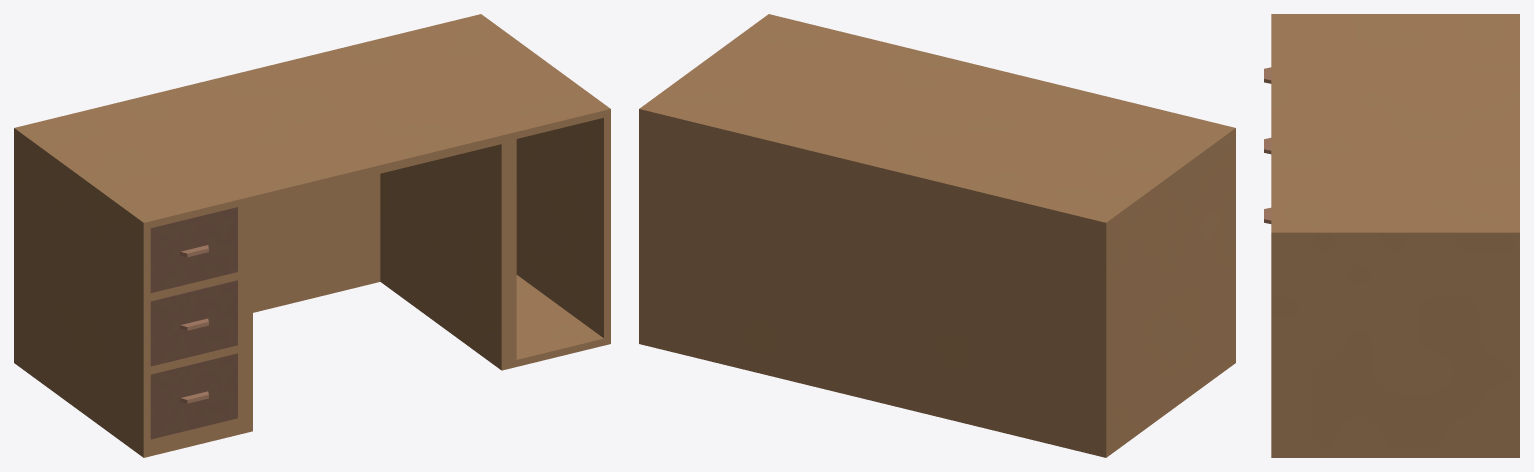
The model's file is Desk_02_01.fbx.
3 renders of one model, left to right at view 1: azimuth 30°, elevation 25°; view 2: azimuth 150°, elevation 25°; view 3: azimuth 270°, elevation 25°, orthographic. The views are drawn at different scales.
Visible parts, largest first — view 1: Desk_02_01, Desk_02_01_Drawer.001, Desk_02_01_Drawer.002, Desk_02_01_Drawer; view 2: Desk_02_01; view 3: Desk_02_01.
Boxes of the visible parts, left/top/right/bottom form: Desk_02_01: left=14, top=14, right=610, bottom=457; Desk_02_01_Drawer.001: left=150, top=280, right=237, bottom=366; Desk_02_01_Drawer.002: left=150, top=353, right=237, bottom=439; Desk_02_01_Drawer: left=150, top=207, right=237, bottom=292; Desk_02_01: left=639, top=14, right=1235, bottom=457; Desk_02_01: left=1271, top=14, right=1519, bottom=457.
Bounding box in the file's own units: 1.69 × 0.8109 × 0.8343.
